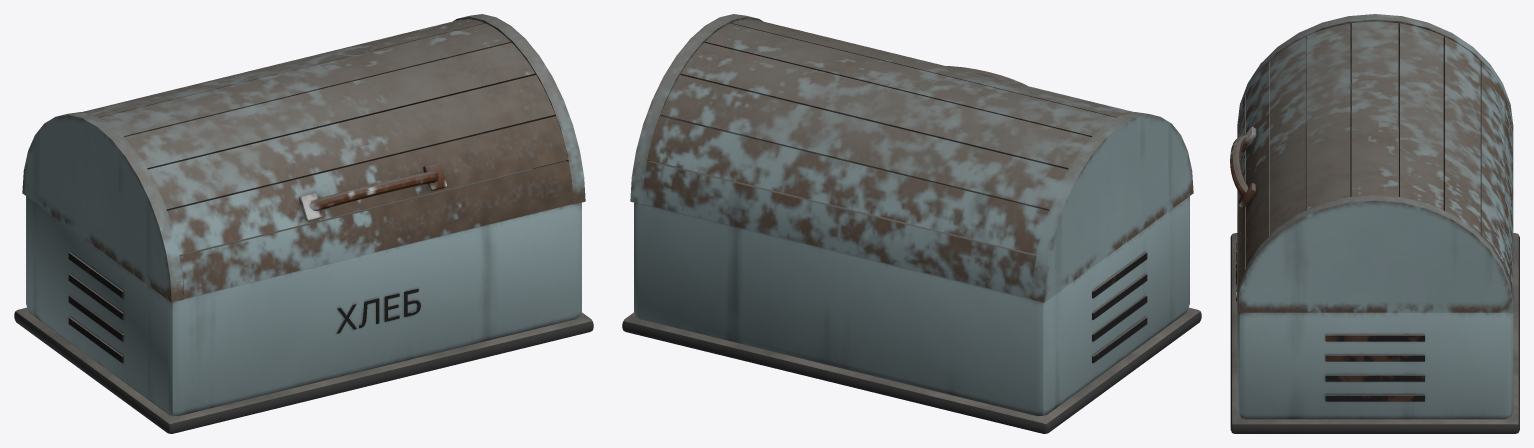
Rendered from SM_BreadBox.fbx.
3 renders of one model, left to right at view 1: azimuth 30°, elevation 25°; view 2: azimuth 150°, elevation 25°; view 3: azimuth 270°, elevation 25°, orthographic. The views are drawn at different scales.
Visible parts, largest first — view 1: SM_BreadBox; view 2: SM_BreadBox; view 3: SM_BreadBox.
Boxes of the visible parts, <box> form: SM_BreadBox: <box>14,14,593,433</box>; SM_BreadBox: <box>622,14,1201,433</box>; SM_BreadBox: <box>1230,14,1519,433</box>.
Bounding box in the file's own units: 0.412 × 0.237 × 0.2625.
Materials: 1 (1 with a texture image).
